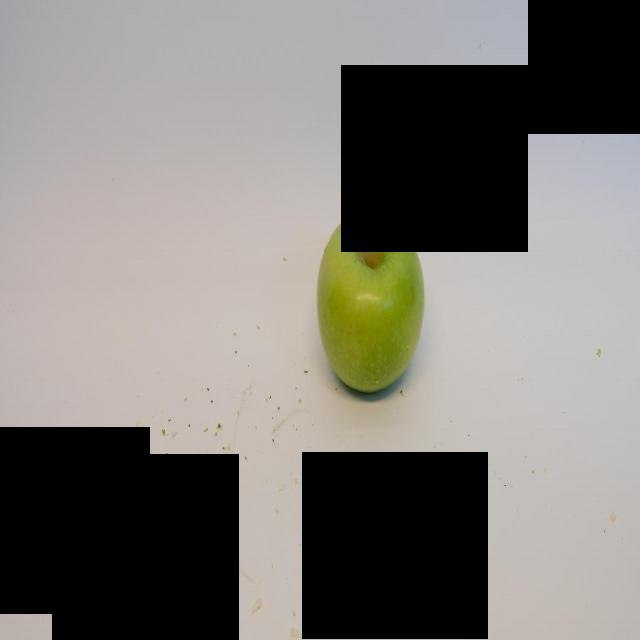apple: (316, 192, 426, 402)
